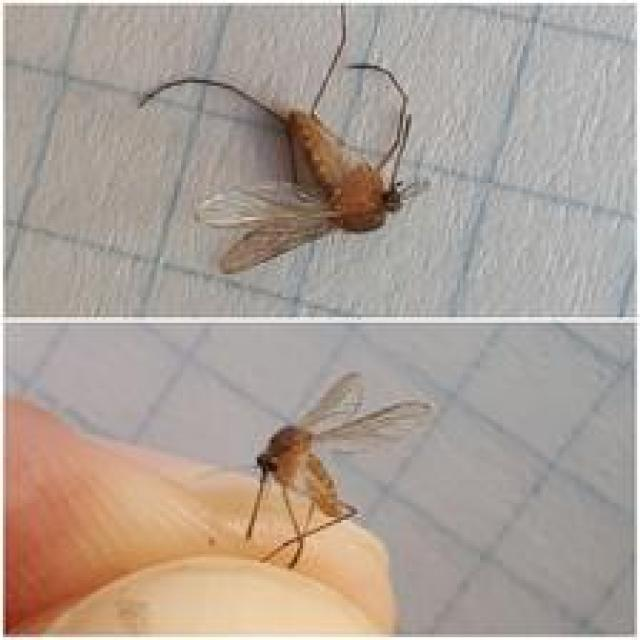Culex: (243, 370, 434, 570)
